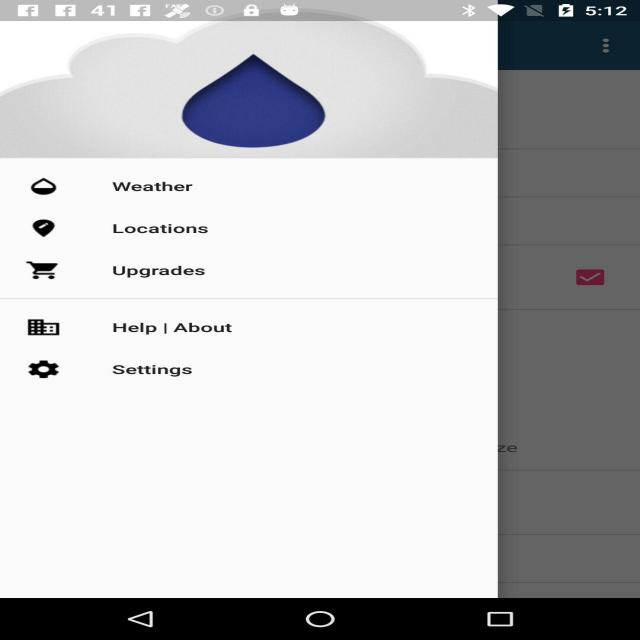icon: (5, 300, 64, 340), (20, 217, 78, 247), (20, 254, 62, 284), (9, 180, 64, 202), (20, 358, 64, 381)
image: (0, 19, 493, 156)
text: (100, 315, 266, 341), (105, 218, 246, 248), (104, 170, 220, 206), (94, 262, 234, 290), (117, 358, 206, 387)
